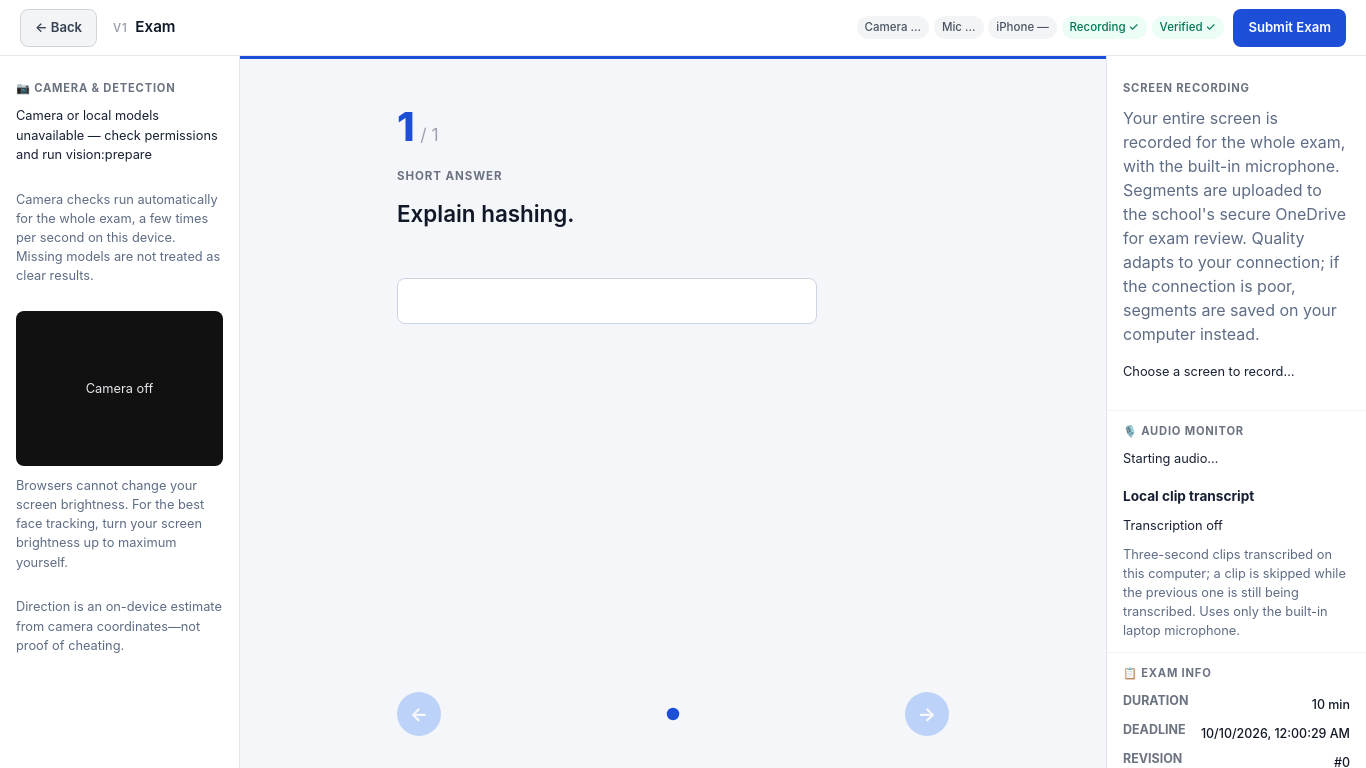
"Keep answering" after a failed submit asks to resume the recording (a genuine stop)
This screenshot has width=1366, height=768.
Click the button "Submit Exam". click: click(1290, 28)
box: [1233,8,1346,46]
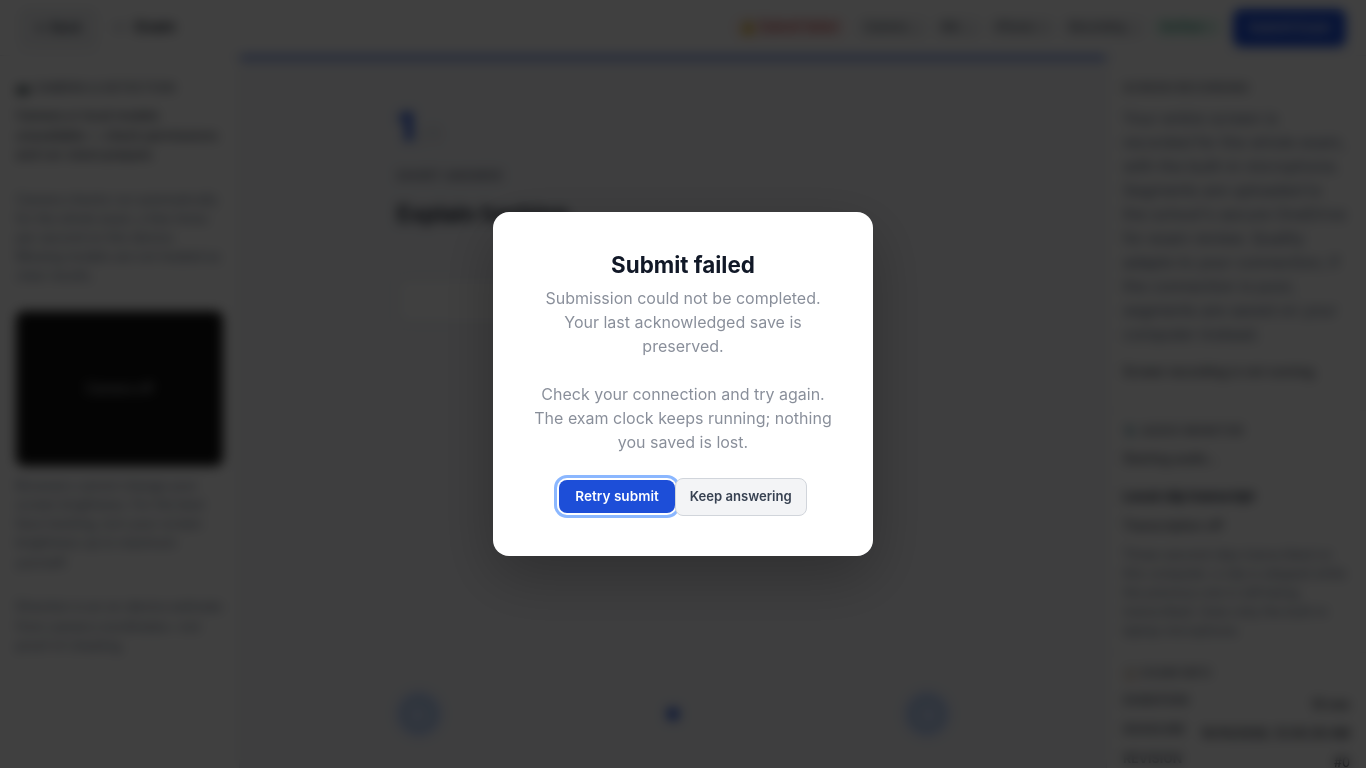
Click the button "Keep answering". click: click(741, 497)
box: [675,478,807,516]
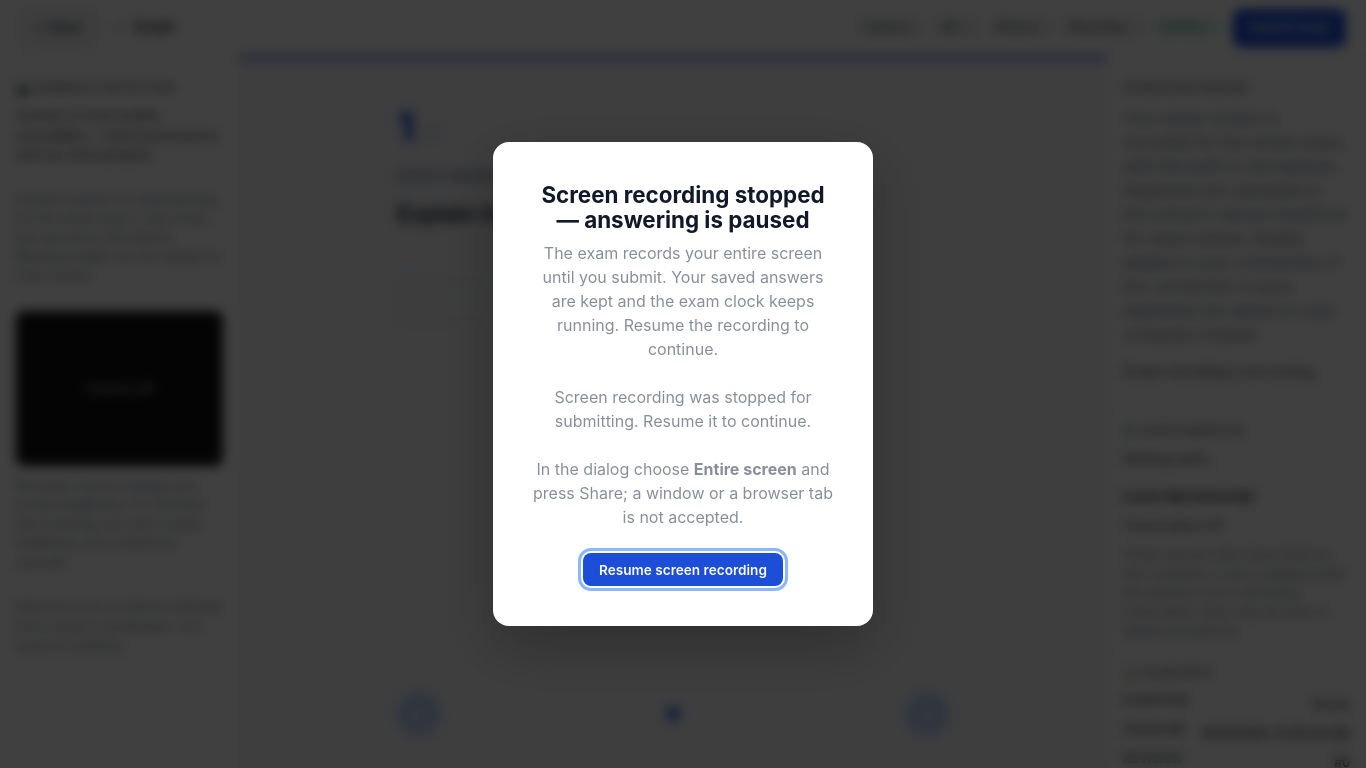
Expected: the dialog named "Screen recording stopped" is shown
Click the button "Resume screen recording". click: click(683, 570)
box: [583,553,783,586]
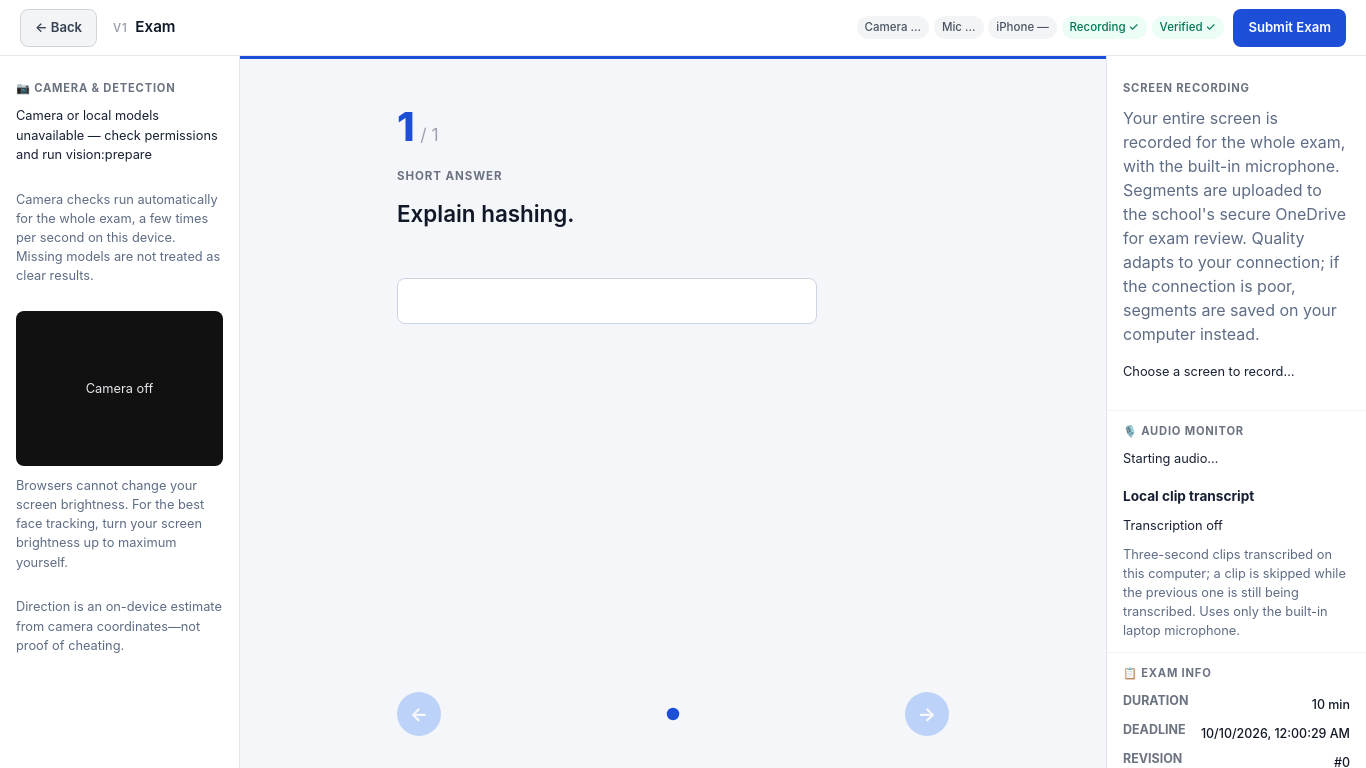
Expected: the field named "Written answer" is enabled, [397,278,817,324]
